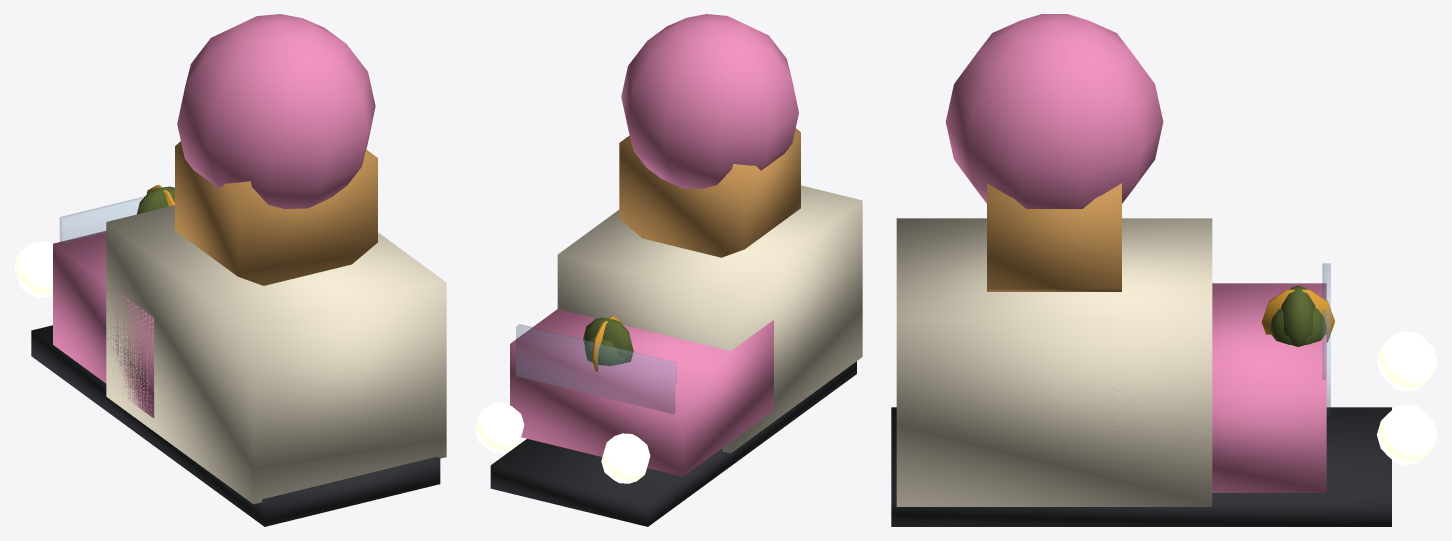
File: helado_clean.glb
3 views of the same model, side by side, from view 1: azimuth 30°, elevation 25°; view 2: azimuth 150°, elevation 25°; view 3: azimuth 270°, elevation 25° (orthographic). The views are drawn at different scales.
Visible parts, largest first — view 1: Helado; view 2: Helado; view 3: Helado.
Boxes of the visible parts, x1,y1,x2,y2 form: Helado: (14,14,446,526); Helado: (475,14,862,526); Helado: (891,14,1437,526).
Bounding box in the file's own units: 1.1 × 2.32 × 2.51.
